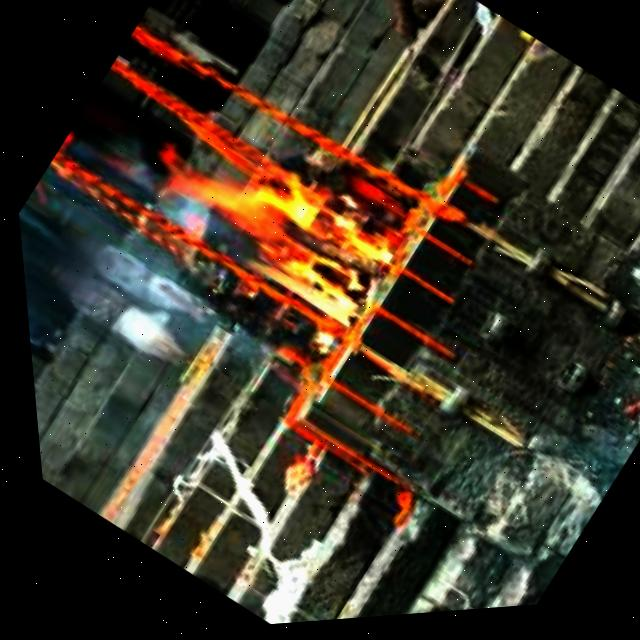Fire: (141, 107, 407, 349)
